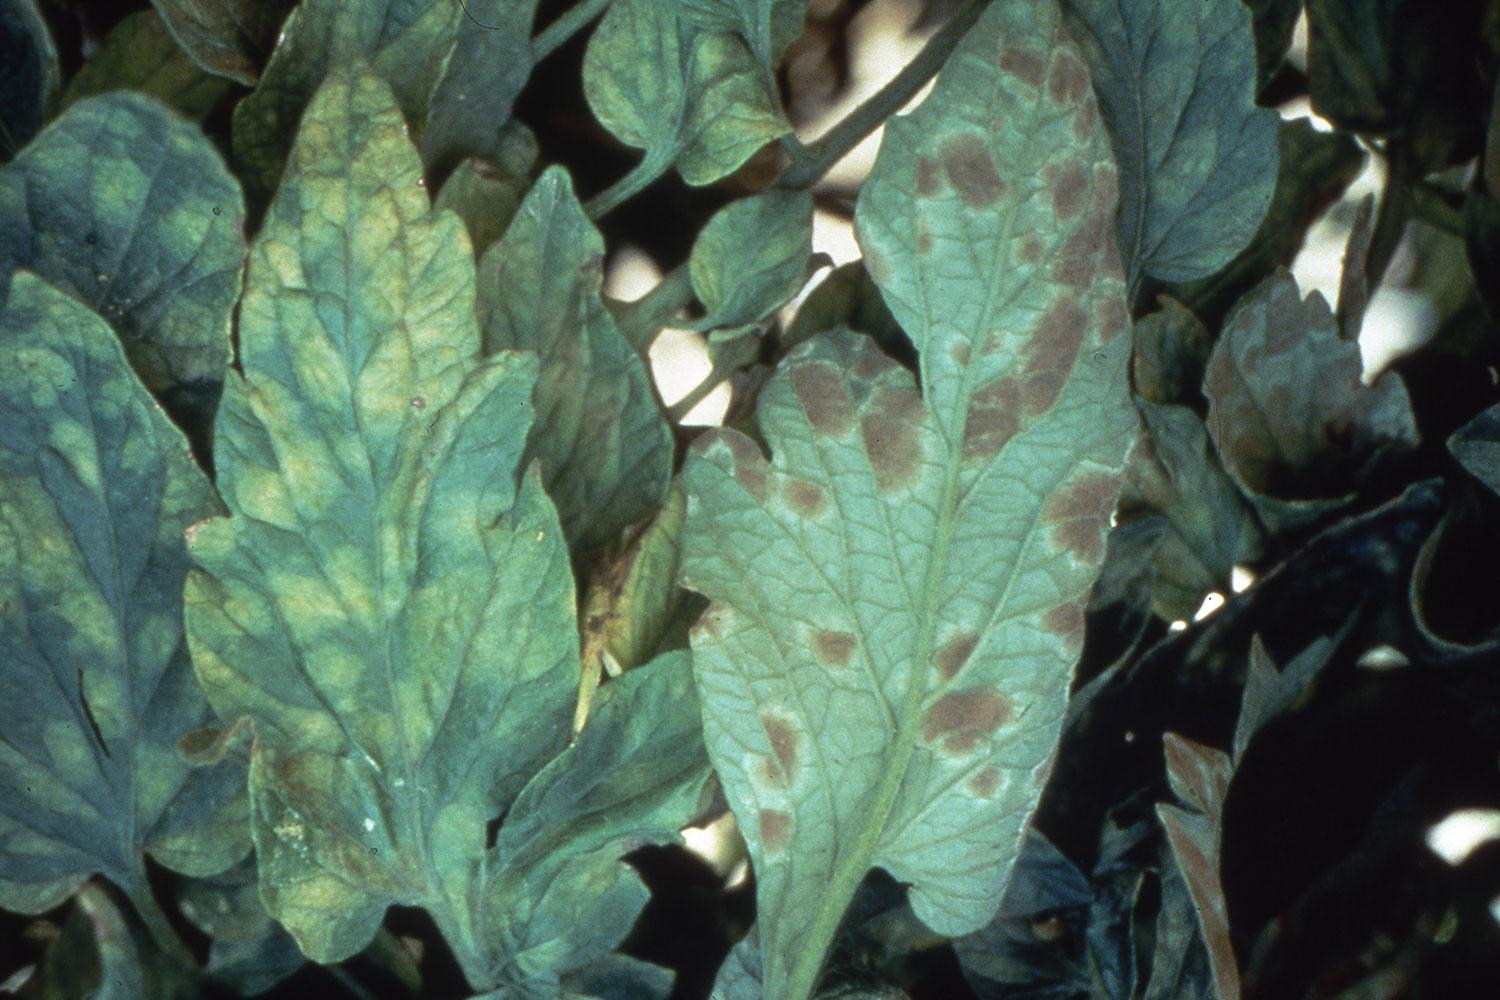Tomato mold leaf: (677, 0, 1158, 972), (167, 41, 569, 958), (1, 211, 275, 888), (573, 0, 816, 187)
